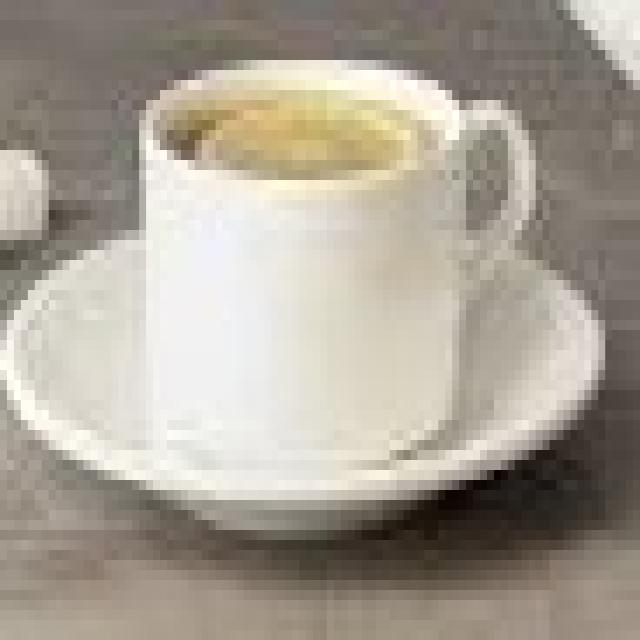taza: (114, 52, 546, 480)
